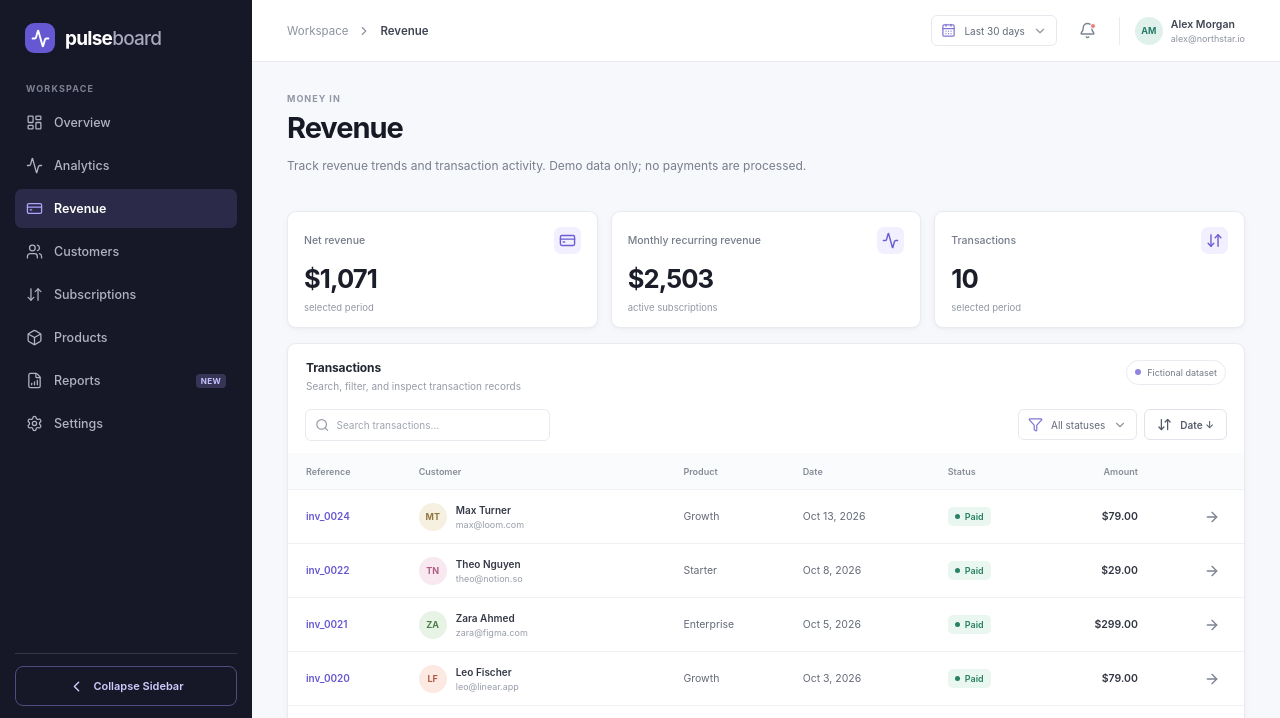
Test case: PulseBoard application › creates and downloads a CSV from the selected report data
Click the link "Reports NEW". click: click(77, 380)
box: [26,372,226,389]
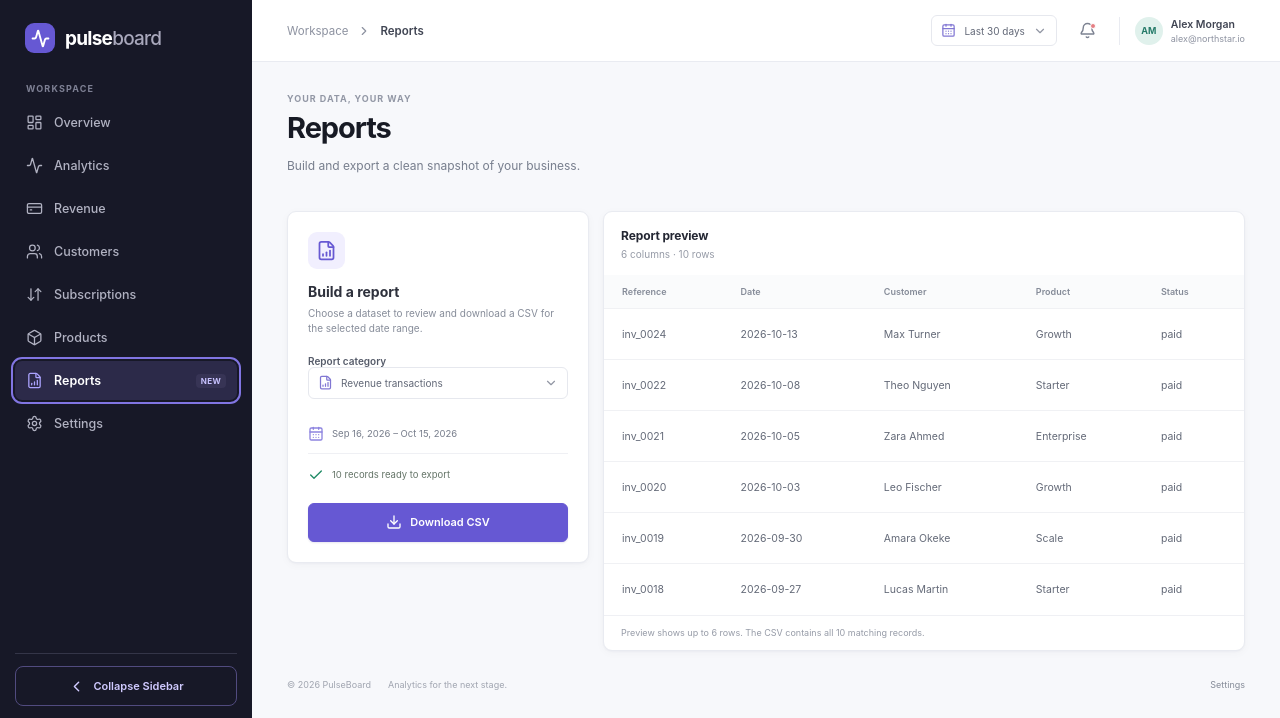
Click the button with aria-label "Report category". click: click(438, 382)
box: [308,366,568,398]
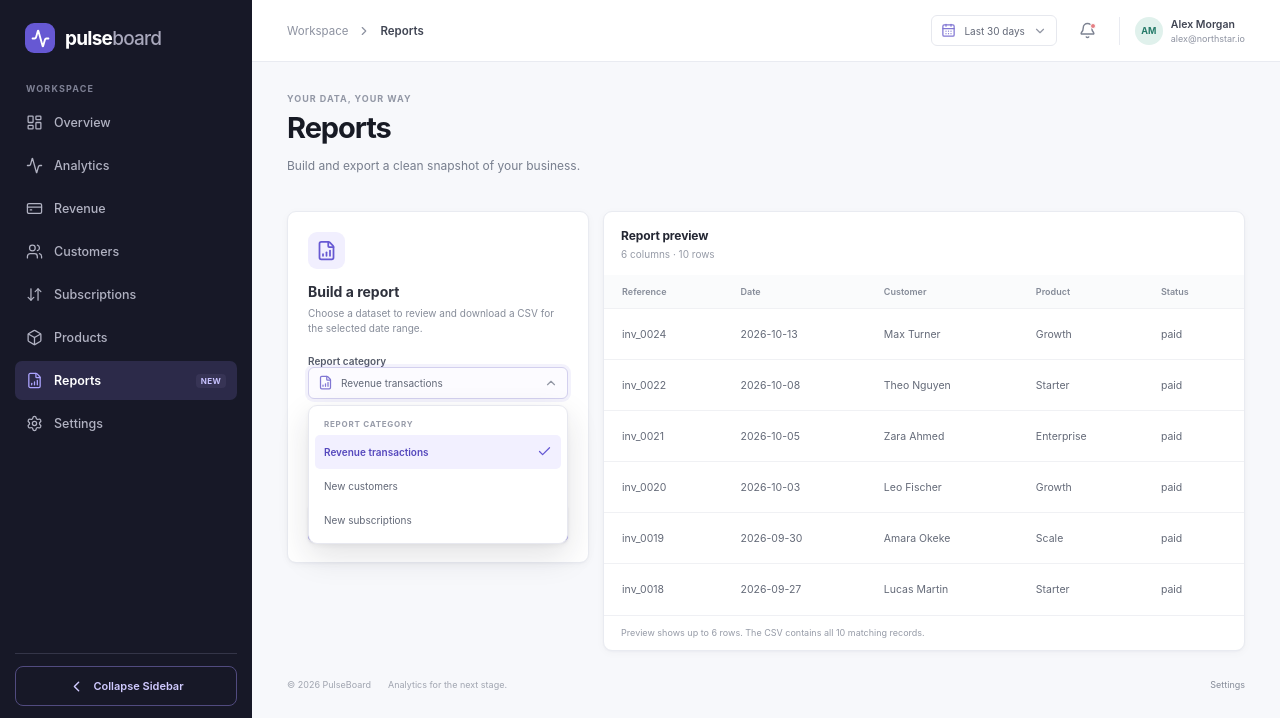
Click the option "New customers". click: click(438, 486)
box: [315,468,561,502]
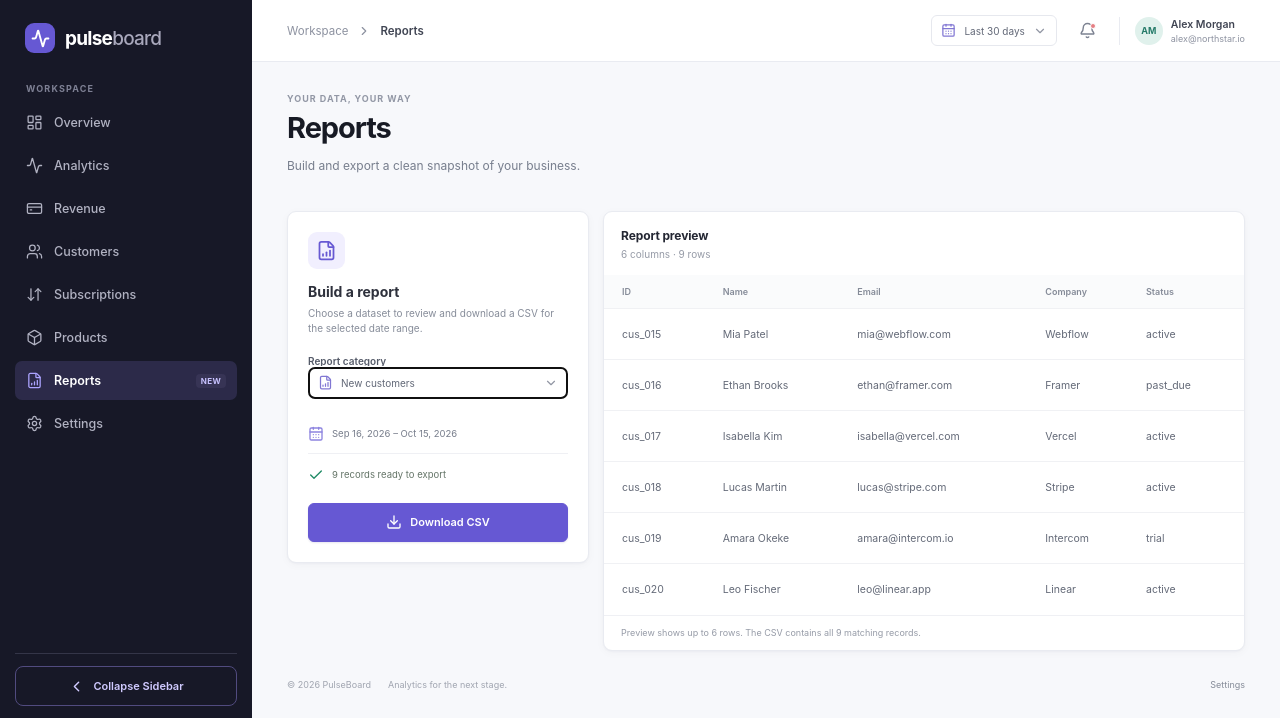
Expected: the text "9 records ready to export" is shown, [332,469,446,480]
Click the button "Download CSV". click: click(438, 522)
box: [308,502,568,542]
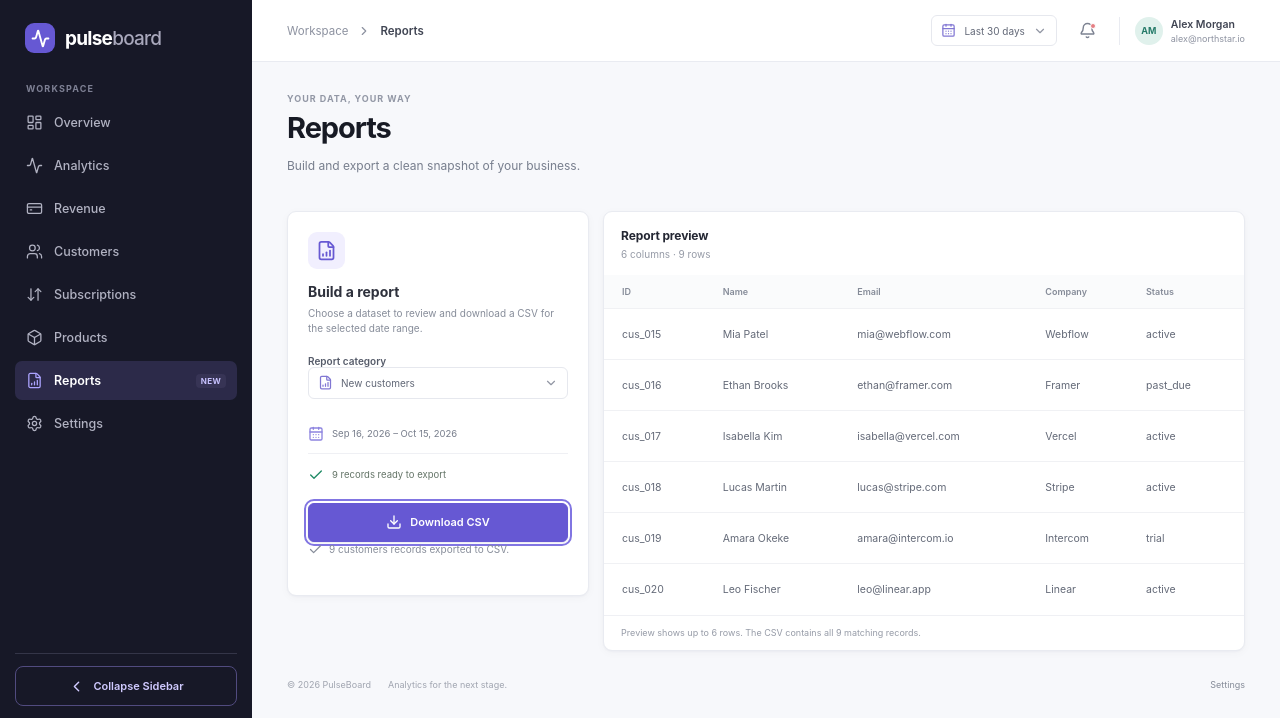
Expected: the message shows "customers records exported to CSV", [329,542,509,554]
